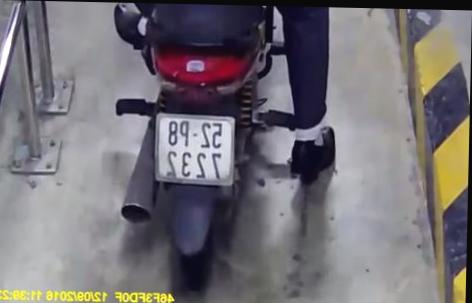License_Plate: (146, 105, 245, 194)
